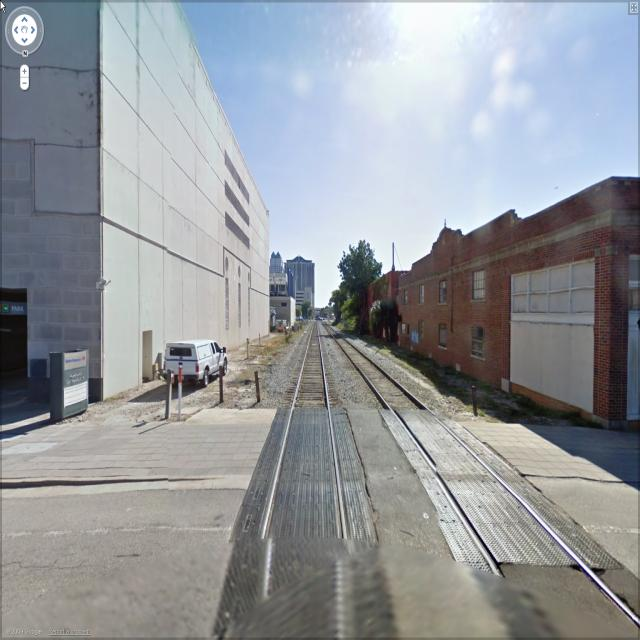b_1: (28, 1, 272, 331), (406, 176, 637, 436), (290, 247, 318, 316)
